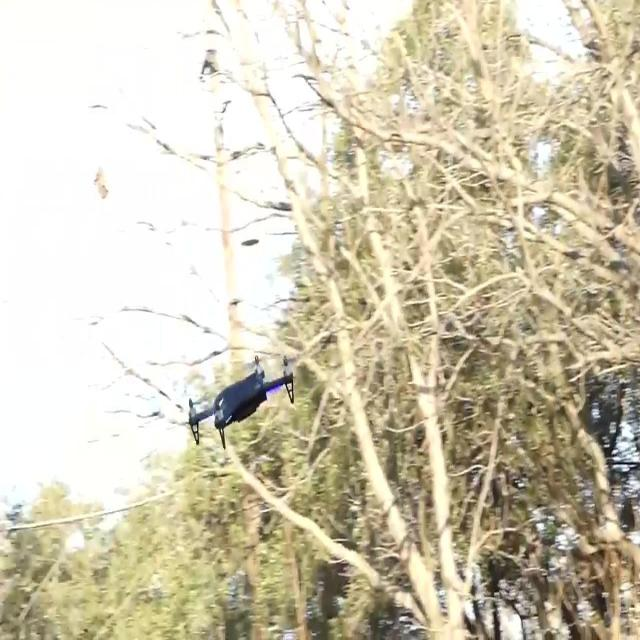drone: (188, 352, 296, 455)
